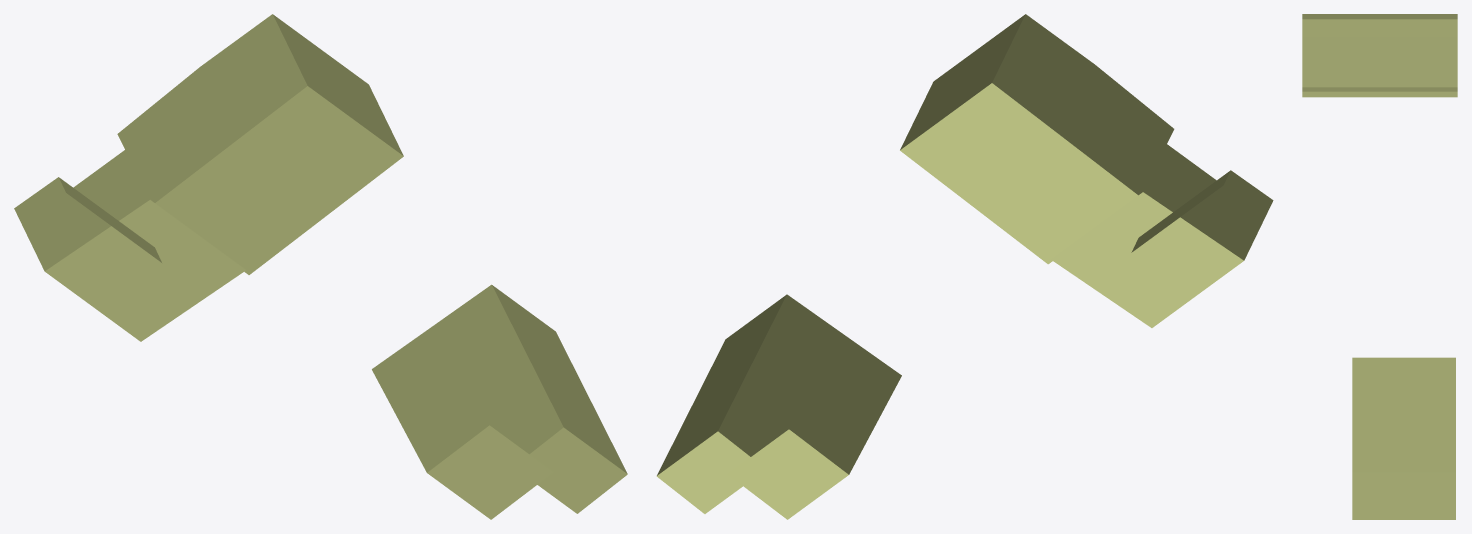
The picture shows the model from 3 angles, left to right: view 1: azimuth 30°, elevation 25°; view 2: azimuth 150°, elevation 25°; view 3: azimuth 270°, elevation 25°; orthographic projection. The views are drawn at different scales.
Visible parts, largest first — view 1: 0_1_0_2_0_0_1_3_3; view 2: 0_1_0_2_0_0_1_3_3; view 3: 0_1_0_2_0_0_1_3_3.
Boxes of the visible parts, left/top/right/bottom form: 0_1_0_2_0_0_1_3_3: left=14, top=14, right=627, bottom=519; 0_1_0_2_0_0_1_3_3: left=656, top=14, right=1273, bottom=519; 0_1_0_2_0_0_1_3_3: left=1302, top=14, right=1457, bottom=519.
Bounding box in the file's own units: 29.6 × 26.34 × 9.
